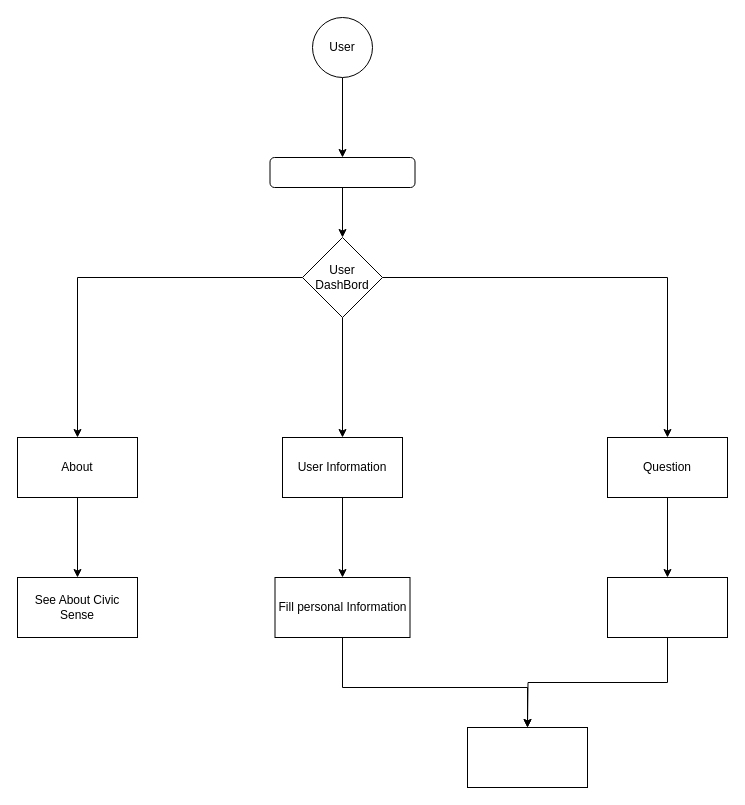
Some shapes in this 745 by 805 pixel diagram are drawn without their labels. Here are the shapes that lost their labels. From the top down, the centre of each, then its label:
At (342,172): "Search website name".
At (667,607): "Solve All the question and submit".
At (527,757): "Exit".
